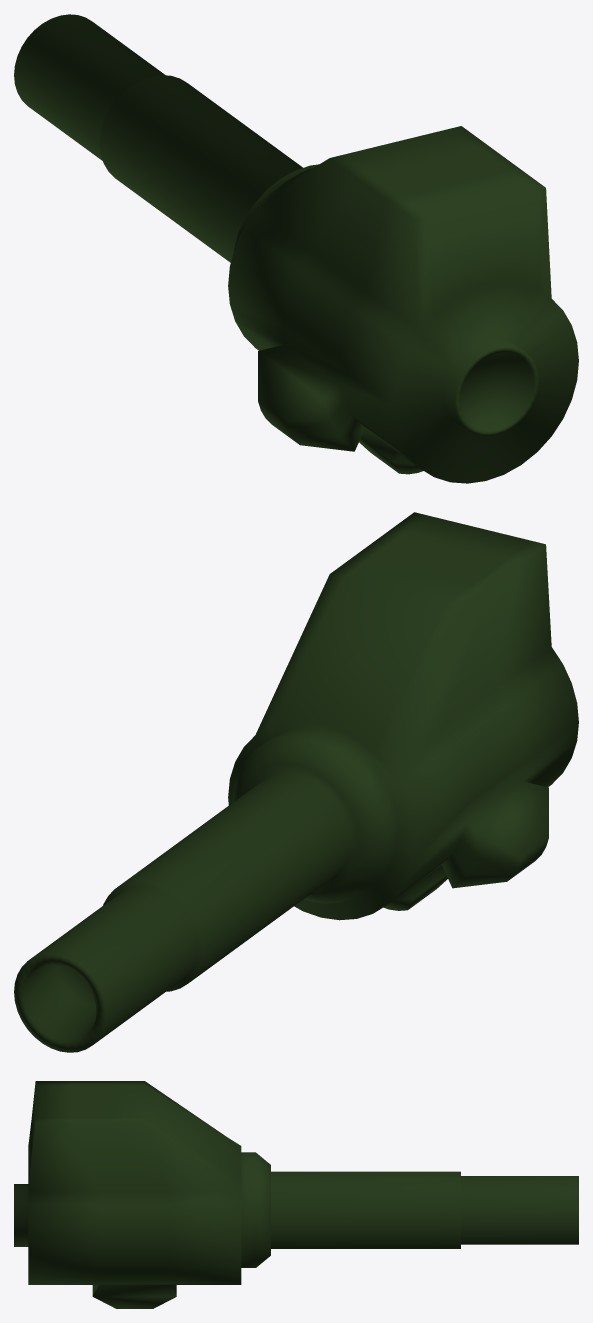
File: FloaterGun.fbx
3 renders of one model, top to bottom at view 1: azimuth 30°, elevation 25°; view 2: azimuth 150°, elevation 25°; view 3: azimuth 270°, elevation 25°, orthographic. The views are drawn at different scales.
Parts seen in each view (by area): view 1: Cylinder.009; view 2: Cylinder.009; view 3: Cylinder.009.
Boxes of the visible parts, x1=… form: Cylinder.009: x1=14, y1=14, x2=578, y2=483; Cylinder.009: x1=14, y1=512, x2=578, y2=1052; Cylinder.009: x1=14, y1=1081, x2=578, y2=1308.
Size of the model in its own units: 35.06 by 47 by 118.
